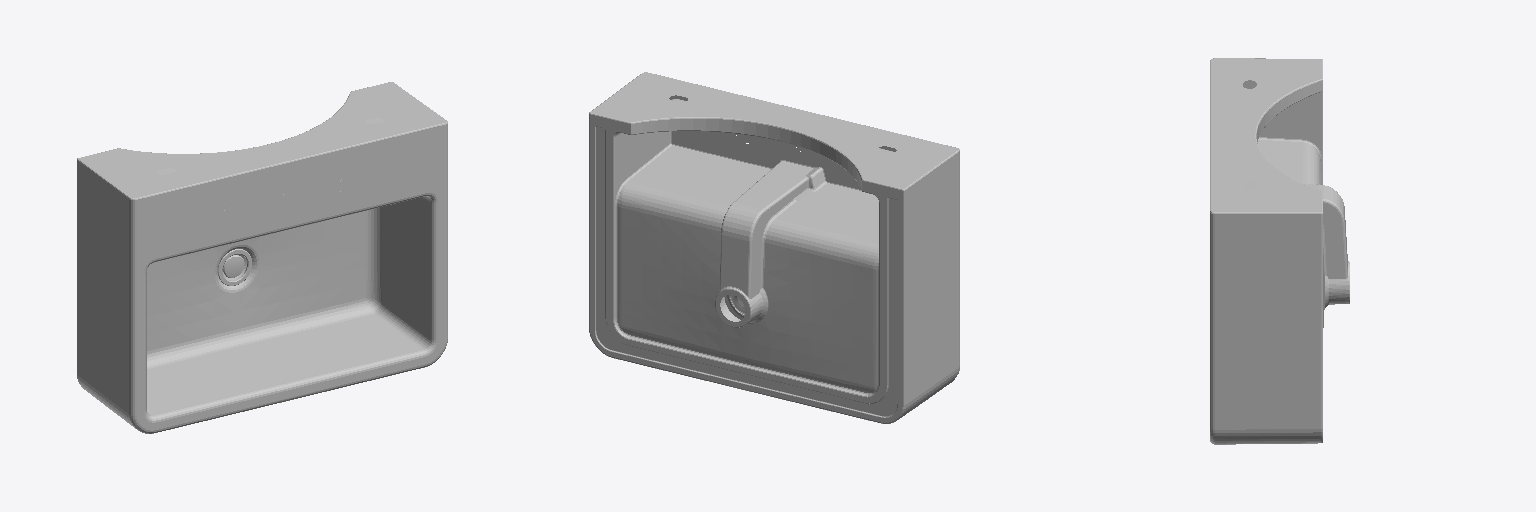
File: basin.obj
3 views of the same model, side by side, from view 1: azimuth 30°, elevation 25°; view 2: azimuth 150°, elevation 25°; view 3: azimuth 270°, elevation 25° (orthographic).
Parts seen in each view (by area): view 1: Basin, UniWaste; view 2: Basin; view 3: Basin.
Part boxes in pixels (x1,y1,x2,y2): Basin: (77,82,447,433); UniWaste: (218,249,251,285); Basin: (589,72,959,423); Basin: (1210,58,1349,444).
Size of the model in its own units: 550 by 399 by 210.